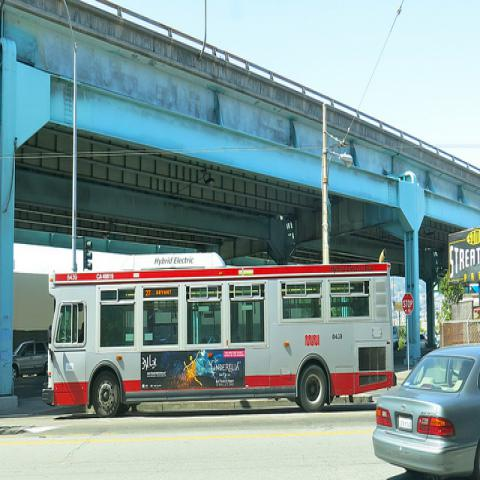bus: (40, 253, 398, 416)
car: (369, 346, 480, 472), (12, 340, 48, 380), (420, 331, 429, 348), (393, 325, 399, 350)
